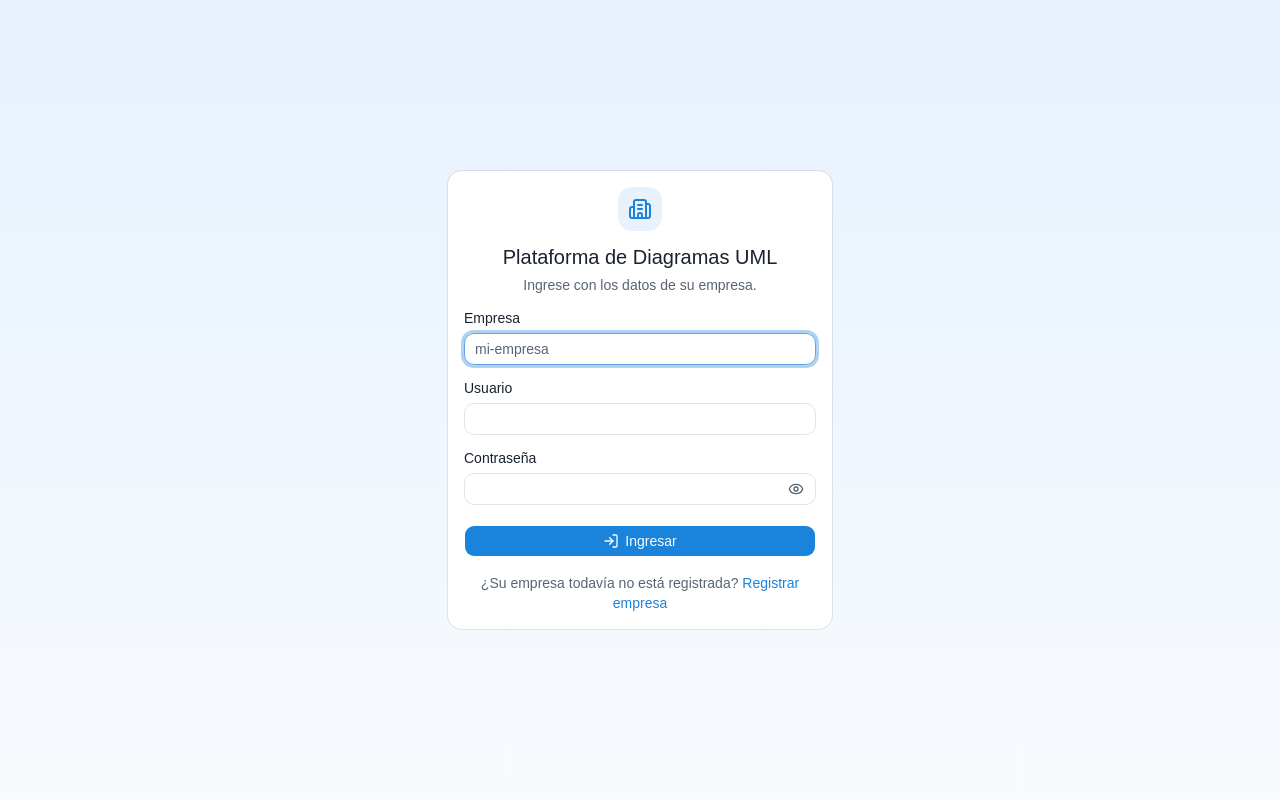
Test: CU-01 Iniciar sesión › muestra el mensaje del backend ante INVALID_CREDENTIALS y no inicia sesión
This screenshot has width=1280, height=800.
Type "demo" into the field labelled "Empresa".
click(640, 349); type("demo")  # box [464,333,816,365]
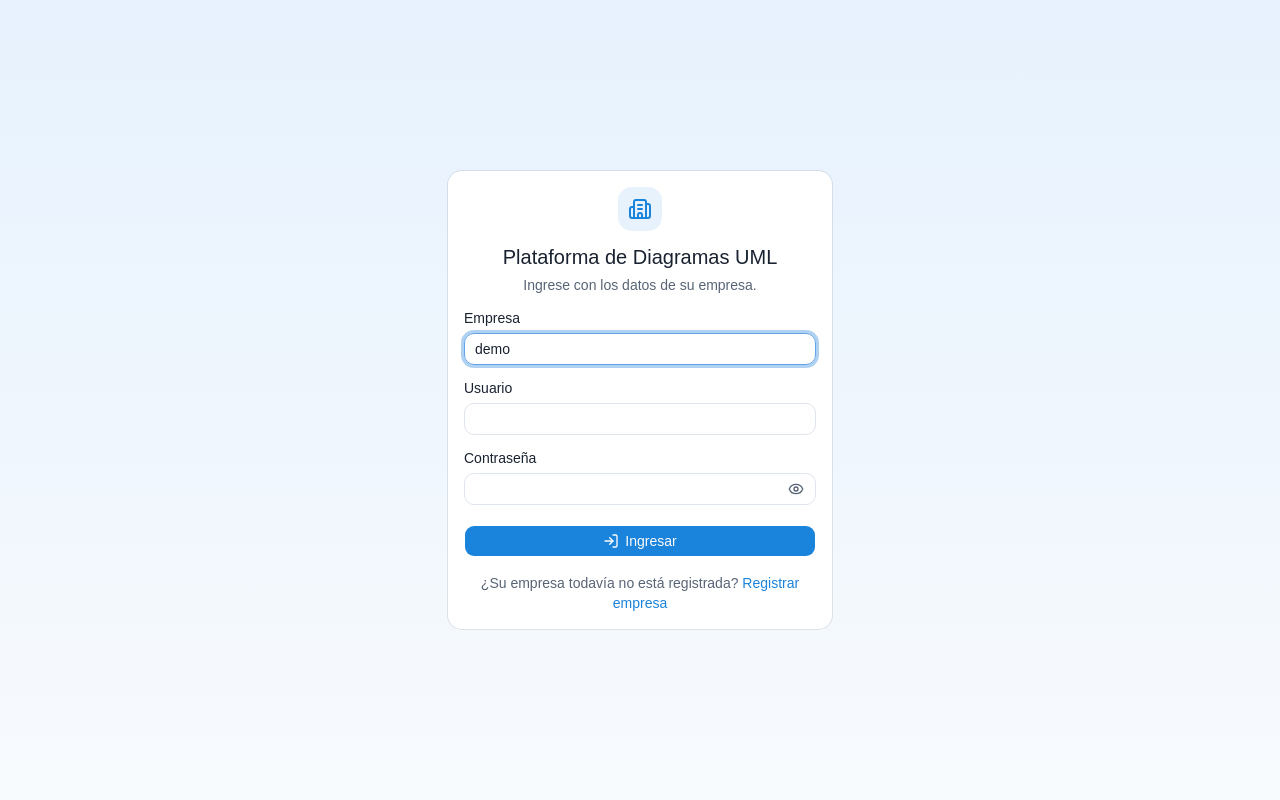
Type "designer" into the field labelled "Usuario".
click(640, 419); type("designer")  # box [464,403,816,435]
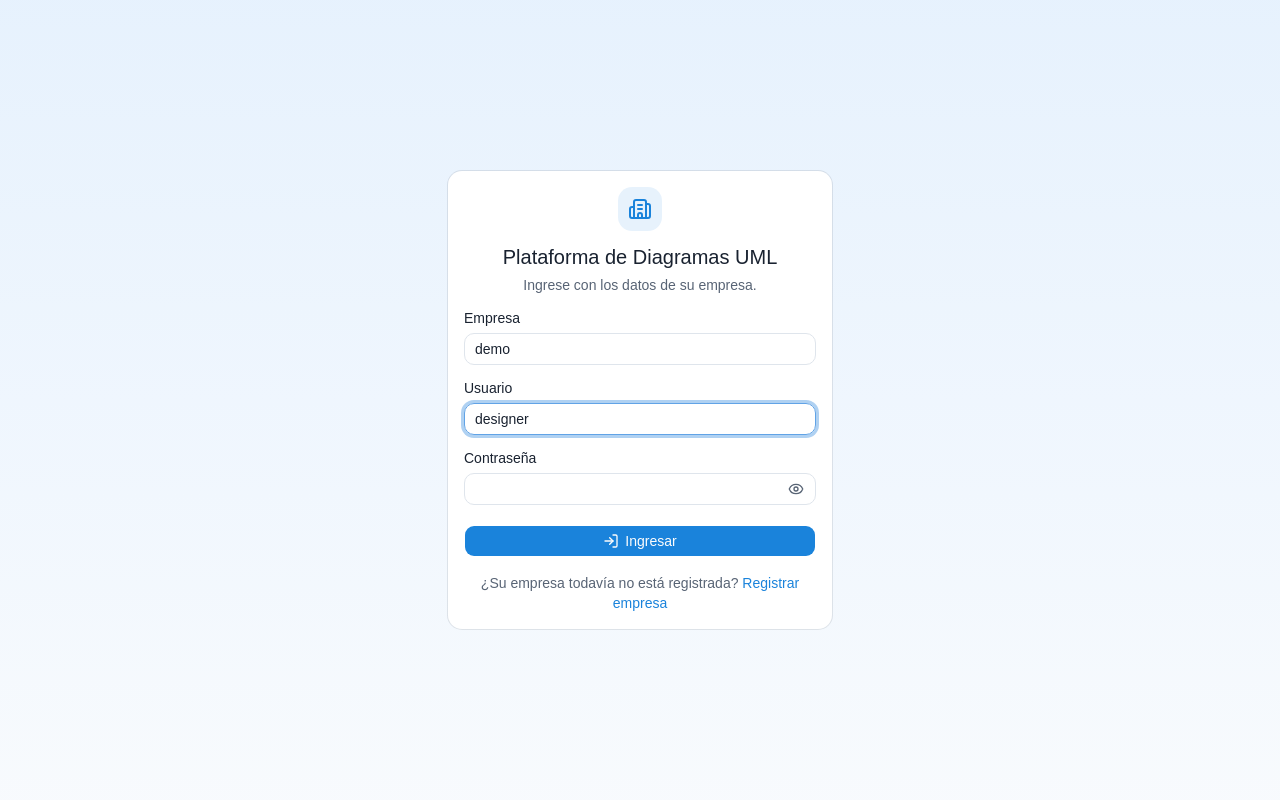
Type "mala" into the password field labelled "Contraseña".
click(640, 489); type("mala")  # box [464,473,816,505]
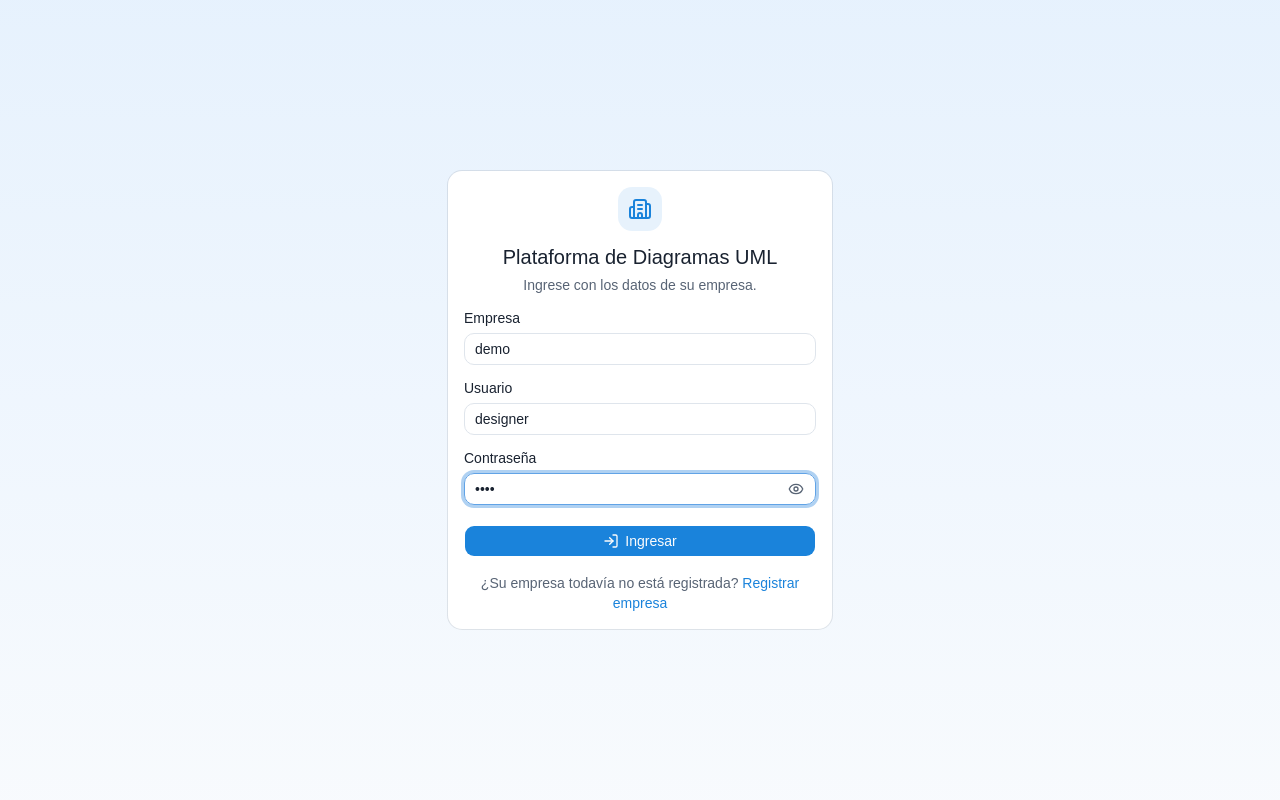
Click the button "Ingresar".
click(640, 541)  # box [464,525,816,557]
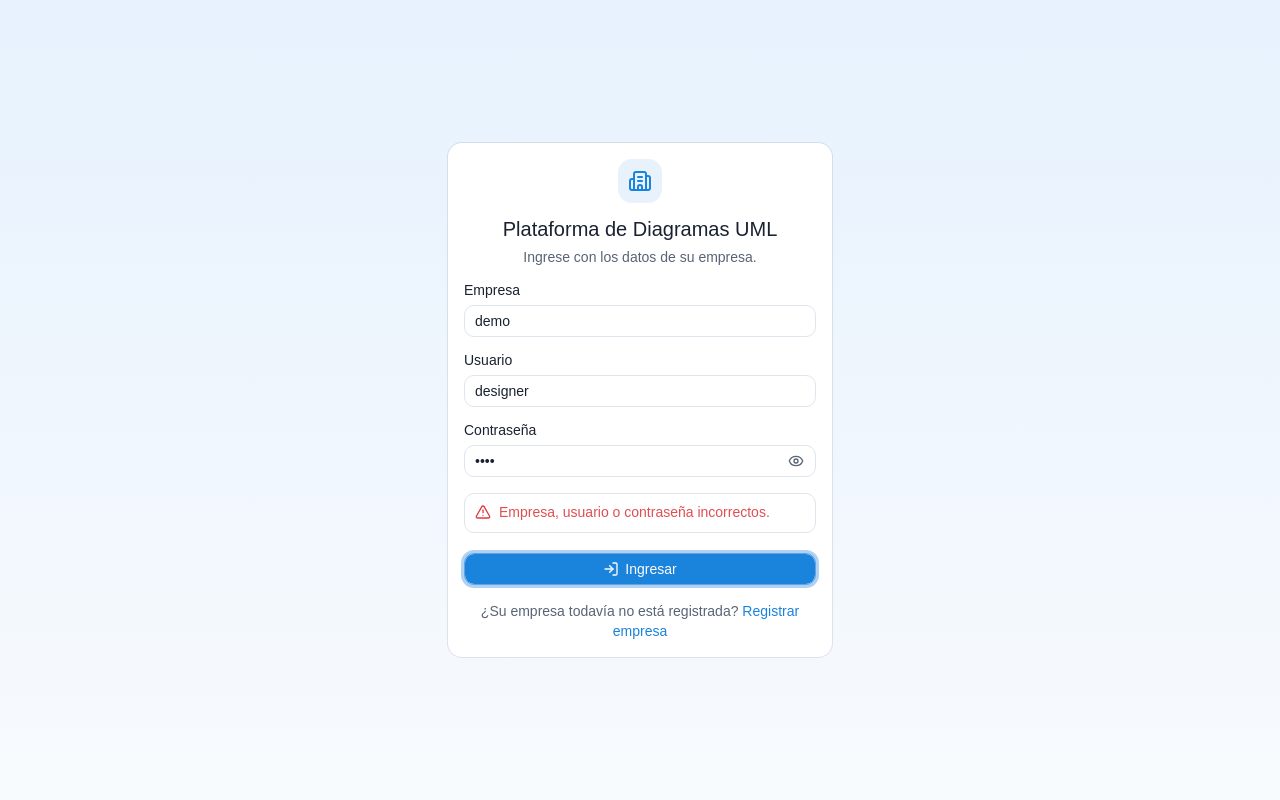
Expected: the message reads "Empresa, usuario o contraseña incorrectos.", [499,504,770,520]
